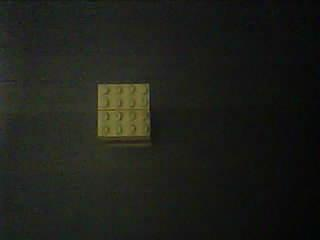lego: (96, 83, 151, 147)
